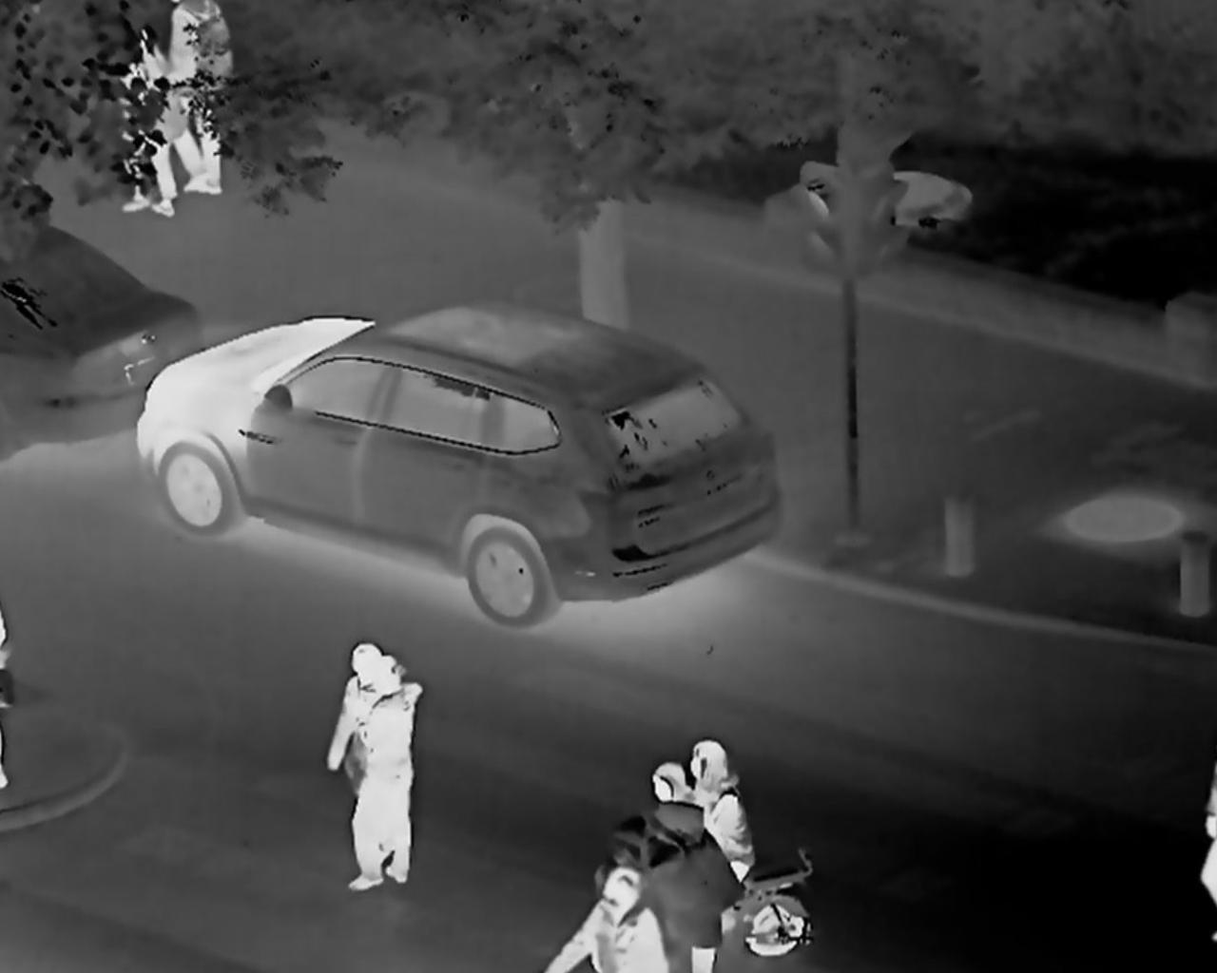person: (647, 728, 783, 878), (373, 665, 424, 908), (125, 23, 187, 181), (584, 886, 641, 973), (345, 638, 371, 742)
